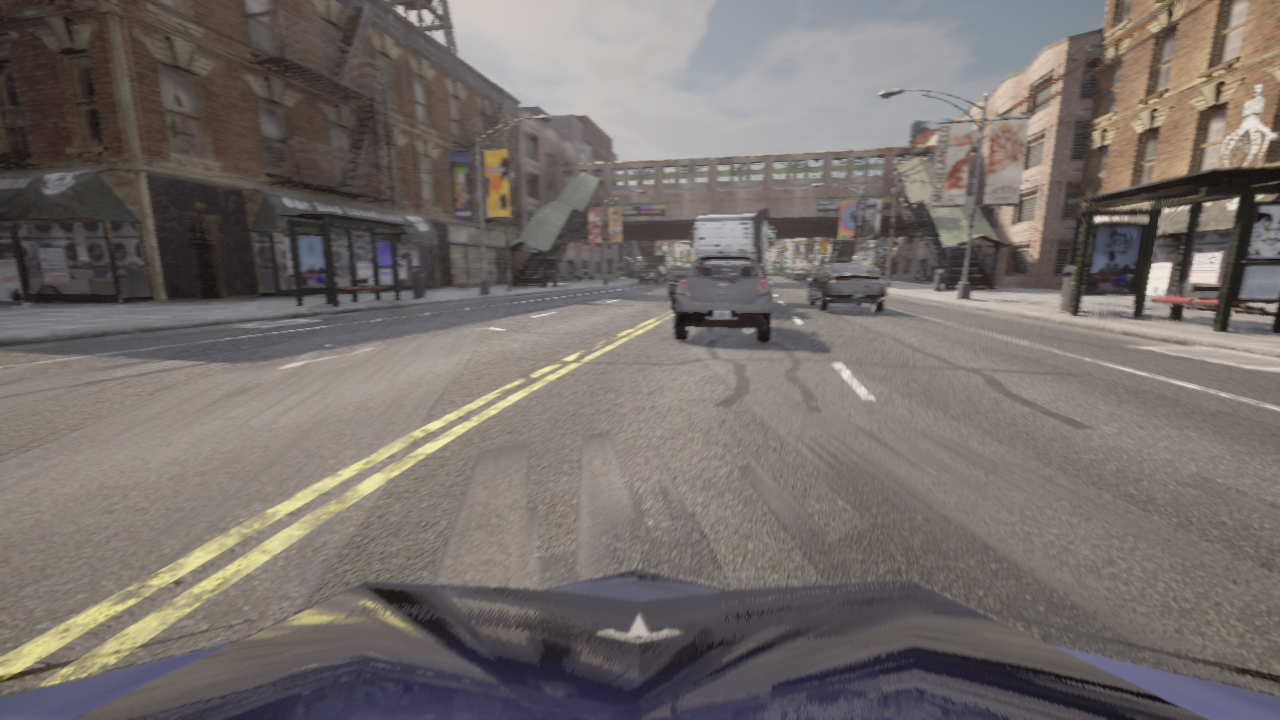cyclist: (0, 569, 1279, 719), (667, 209, 775, 312), (674, 256, 773, 342), (808, 263, 886, 312), (638, 265, 665, 284), (792, 270, 808, 281), (654, 272, 669, 282), (787, 270, 799, 280), (784, 271, 789, 279)
